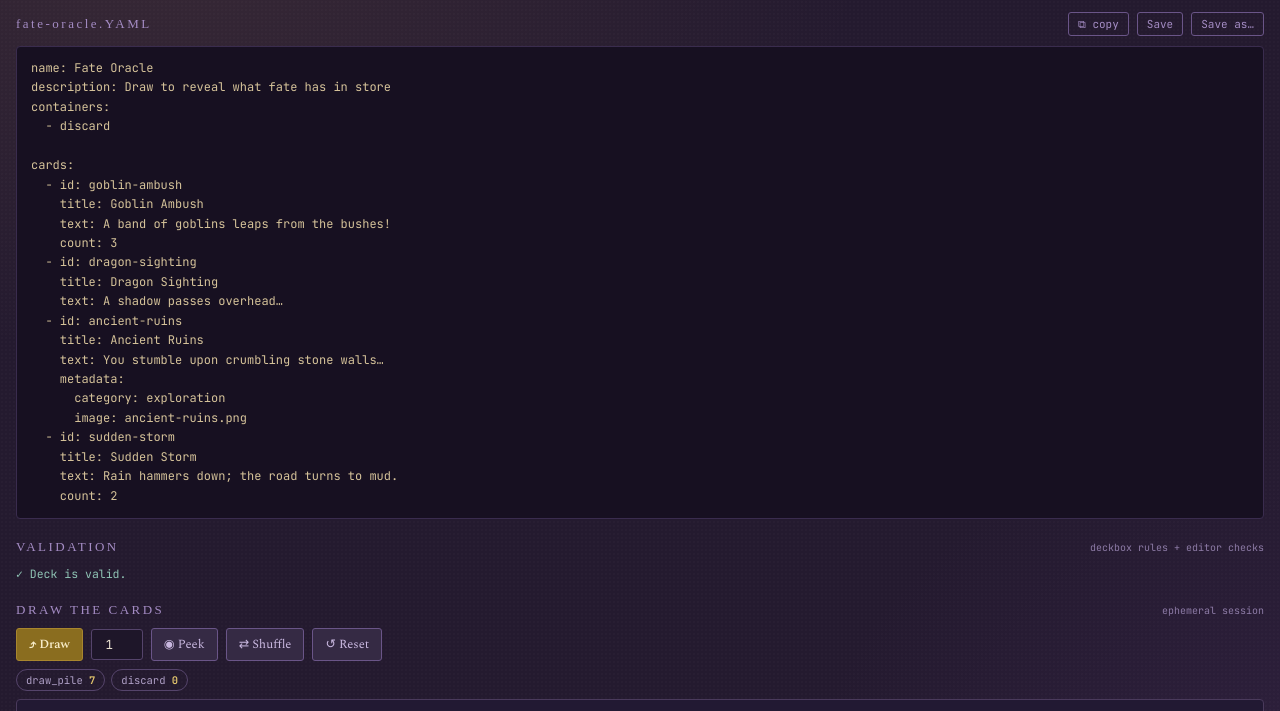
Scenario: DRAW THE CARDS › expanding a card mid-session preserves the in-progress draw
This screenshot has width=1280, height=711.
Replace the text in the number field with "3" at x=117, y=645, box [91, 629, 143, 660]
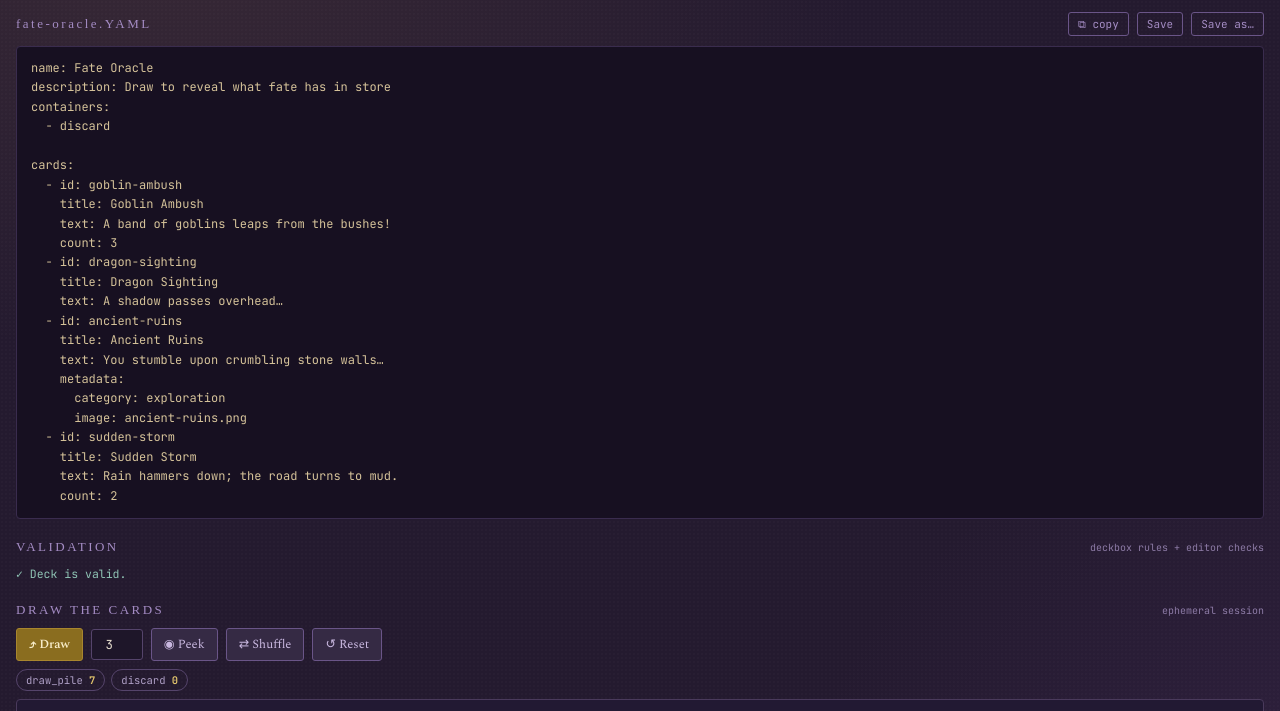
Click the button "⤴ Draw" at x=49, y=645, box [16, 628, 83, 661]
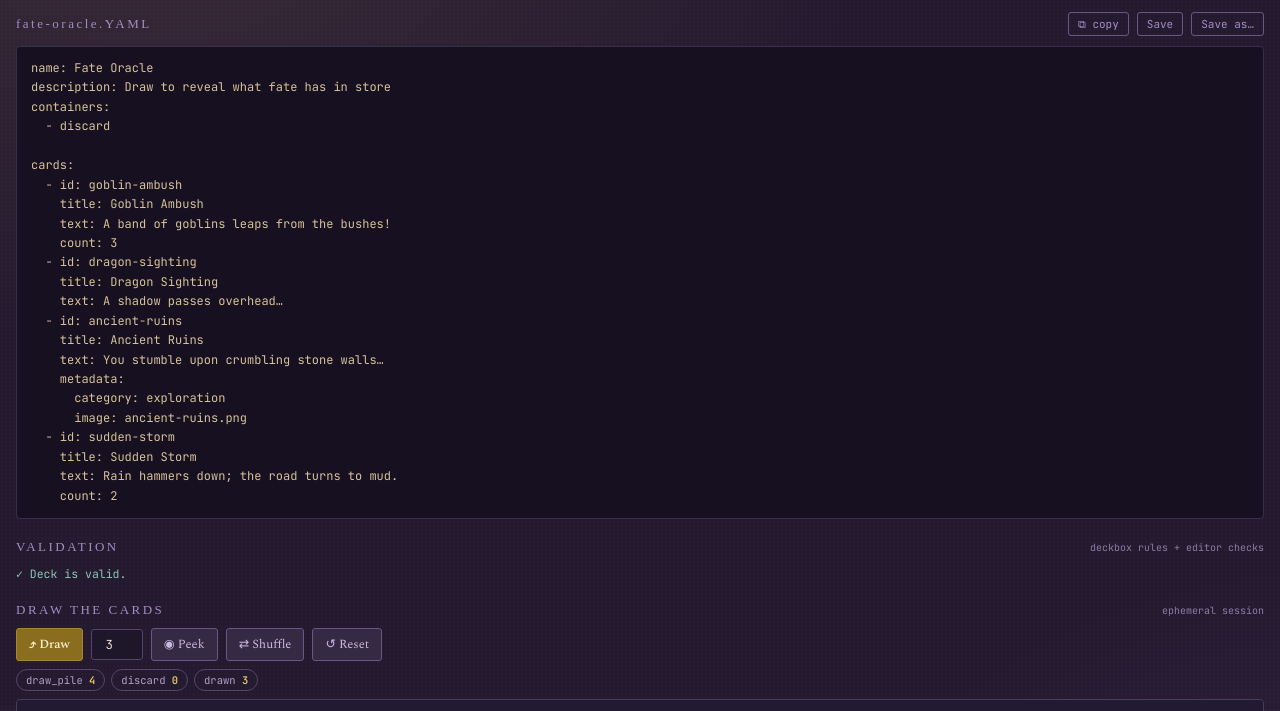
Check: the element with test id "pile-chip-draw_pile" reads "draw_pile 4", box [16, 669, 105, 691]
Check: the number of elements with test id "output-row" is 3
